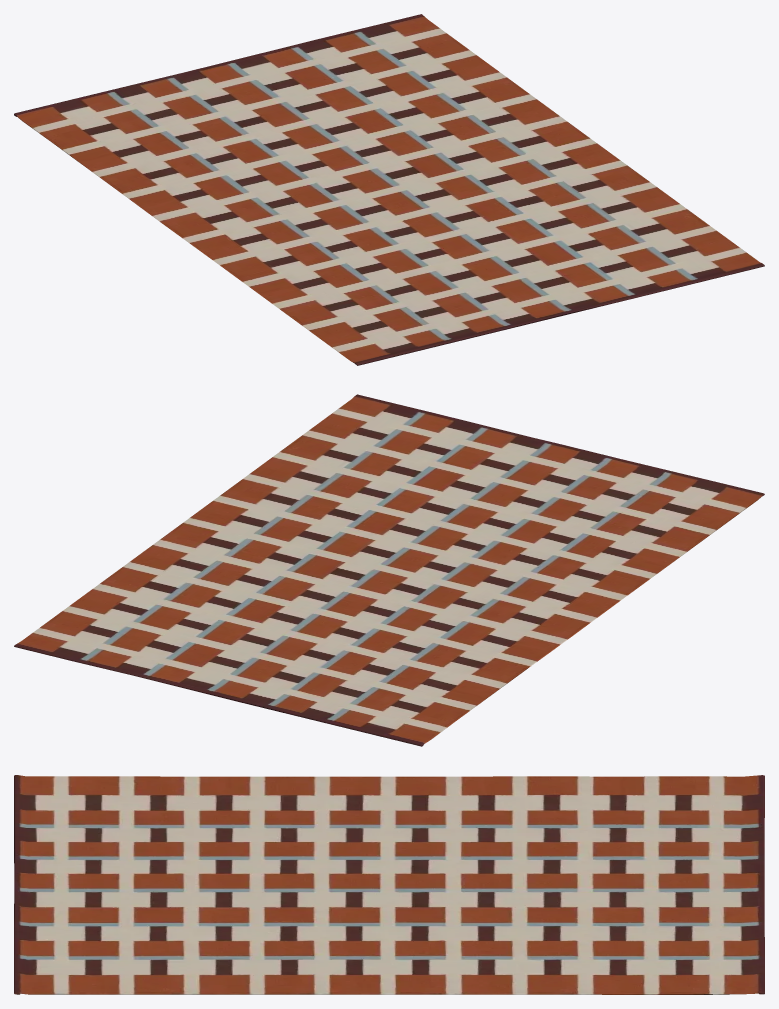
3 renders of one model, top to bottom at view 1: azimuth 30°, elevation 25°; view 2: azimuth 150°, elevation 25°; view 3: azimuth 270°, elevation 25°, orthographic. The views are drawn at different scales.
Parts seen in each view (by area): view 1: ASY_ART_70593814_S01_NV01; view 2: ASY_ART_70593814_S01_NV01; view 3: ASY_ART_70593814_S01_NV01.
Part boxes in pixels (bbox=[...]): ASY_ART_70593814_S01_NV01: bbox=[14, 14, 764, 365]; ASY_ART_70593814_S01_NV01: bbox=[14, 394, 764, 746]; ASY_ART_70593814_S01_NV01: bbox=[14, 775, 764, 994].
Bounding box in the file's own units: 2.4 × 0.0137 × 3.5.
Materials: 1 (1 with a texture image).
